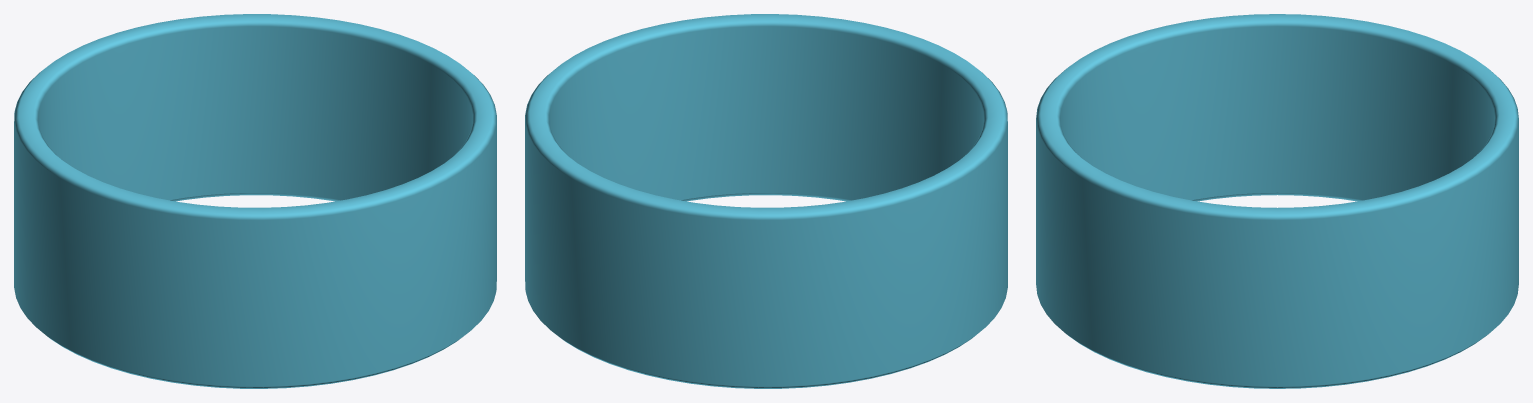
3 views of the same model, side by side, from view 1: azimuth 30°, elevation 25°; view 2: azimuth 150°, elevation 25°; view 3: azimuth 270°, elevation 25° (orthographic).
Visible parts, largest first — view 1: seal_body; view 2: seal_body; view 3: seal_body.
Boxes of the visible parts, x1,y1,x2,y2 form: seal_body: [14, 14, 496, 388]; seal_body: [525, 14, 1007, 388]; seal_body: [1036, 14, 1518, 388].
Bounding box in the file's own units: 0.05 × 0.02 × 0.05.
